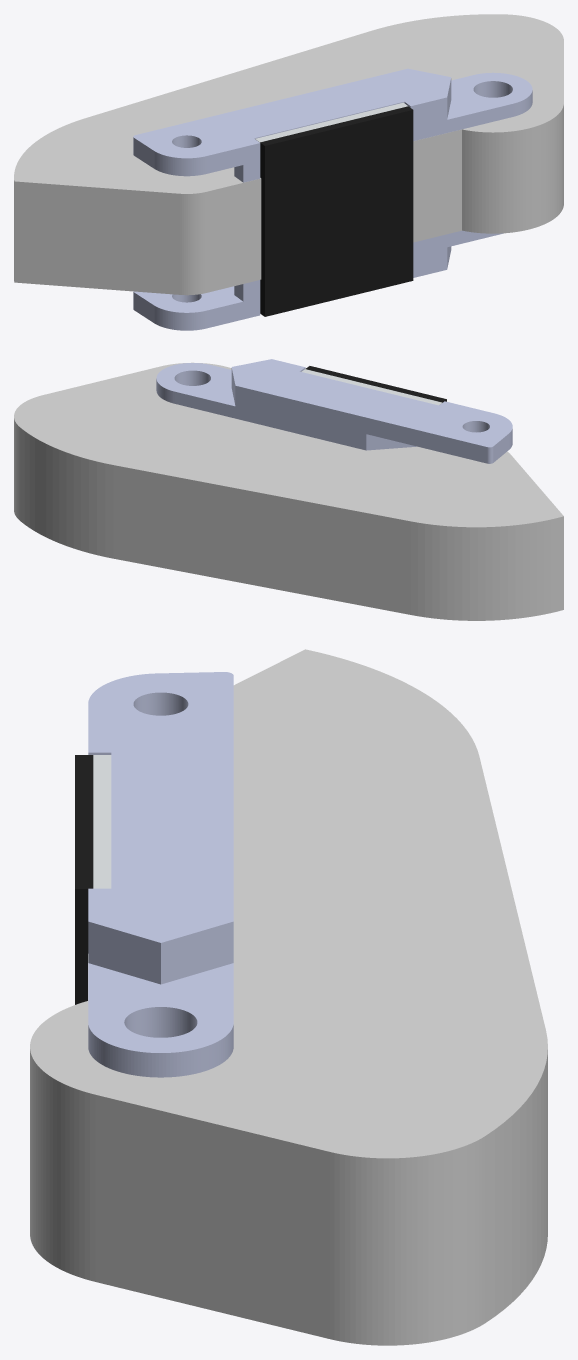
The model's file is AGS_finger-prox.dae.
The picture shows the model from 3 angles, top to bottom: view 1: azimuth 30°, elevation 25°; view 2: azimuth 150°, elevation 25°; view 3: azimuth 270°, elevation 25°; orthographic projection. The views are drawn at different scales.
Parts seen in each view (by area): view 1: node_8e3ffb76_4e6b_425d_81e3_ab8953a27c6b_mesh1, node_8e3ffb76_4e6b_425d_81e3_ab8953a27c6b_mesh3, node_8e3ffb76_4e6b_425d_81e3_ab8953a27c6b_mesh0, node_8e3ffb76_4e6b_425d_81e3_ab8953a27c6b_mesh2; view 2: node_8e3ffb76_4e6b_425d_81e3_ab8953a27c6b_mesh1, node_8e3ffb76_4e6b_425d_81e3_ab8953a27c6b_mesh0, node_8e3ffb76_4e6b_425d_81e3_ab8953a27c6b_mesh3, node_8e3ffb76_4e6b_425d_81e3_ab8953a27c6b_mesh2; view 3: node_8e3ffb76_4e6b_425d_81e3_ab8953a27c6b_mesh1, node_8e3ffb76_4e6b_425d_81e3_ab8953a27c6b_mesh0, node_8e3ffb76_4e6b_425d_81e3_ab8953a27c6b_mesh3, node_8e3ffb76_4e6b_425d_81e3_ab8953a27c6b_mesh2.
Part boxes in pixels (<box>): node_8e3ffb76_4e6b_425d_81e3_ab8953a27c6b_mesh1: <box>14,14,563,295</box>; node_8e3ffb76_4e6b_425d_81e3_ab8953a27c6b_mesh3: <box>260,106,413,316</box>; node_8e3ffb76_4e6b_425d_81e3_ab8953a27c6b_mesh0: <box>133,68,532,330</box>; node_8e3ffb76_4e6b_425d_81e3_ab8953a27c6b_mesh2: <box>255,102,407,142</box>; node_8e3ffb76_4e6b_425d_81e3_ab8953a27c6b_mesh1: <box>14,362,563,620</box>; node_8e3ffb76_4e6b_425d_81e3_ab8953a27c6b_mesh0: <box>156,359,512,463</box>; node_8e3ffb76_4e6b_425d_81e3_ab8953a27c6b_mesh3: <box>306,366,446,402</box>; node_8e3ffb76_4e6b_425d_81e3_ab8953a27c6b_mesh2: <box>301,369,442,405</box>; node_8e3ffb76_4e6b_425d_81e3_ab8953a27c6b_mesh1: <box>30,649,547,1345</box>; node_8e3ffb76_4e6b_425d_81e3_ab8953a27c6b_mesh0: <box>88,672,233,1077</box>; node_8e3ffb76_4e6b_425d_81e3_ab8953a27c6b_mesh3: <box>75,755,93,1004</box>; node_8e3ffb76_4e6b_425d_81e3_ab8953a27c6b_mesh2: <box>93,755,111,888</box>.
Bounding box in the file's own units: 105 × 45.21 × 30.73.
